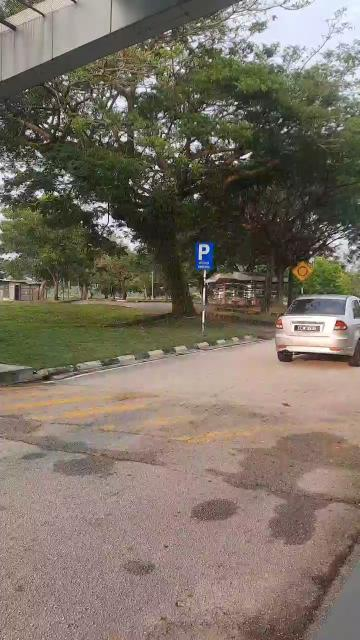car: (278, 290, 360, 371)
